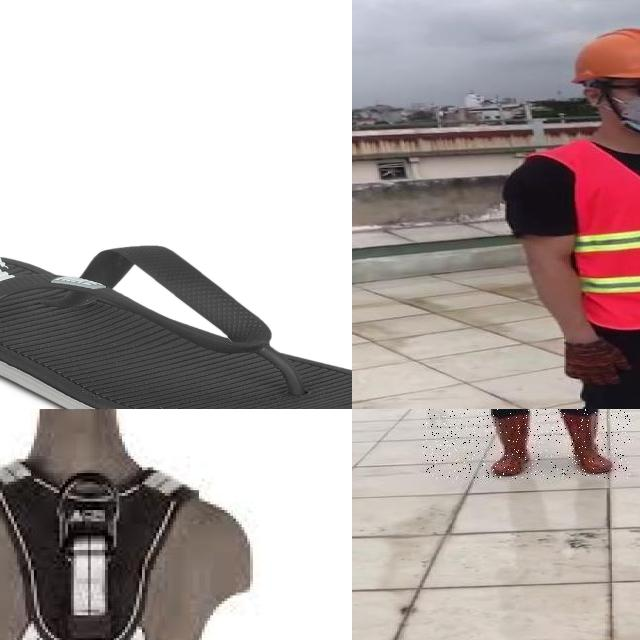Harness: (0, 459, 209, 640)
Sandals: (0, 244, 352, 409)
boots: (560, 411, 616, 475), (486, 411, 536, 477)
head_helmet: (557, 27, 640, 84)
person: (522, 30, 640, 409), (423, 409, 631, 479)
vest: (573, 138, 640, 330)
